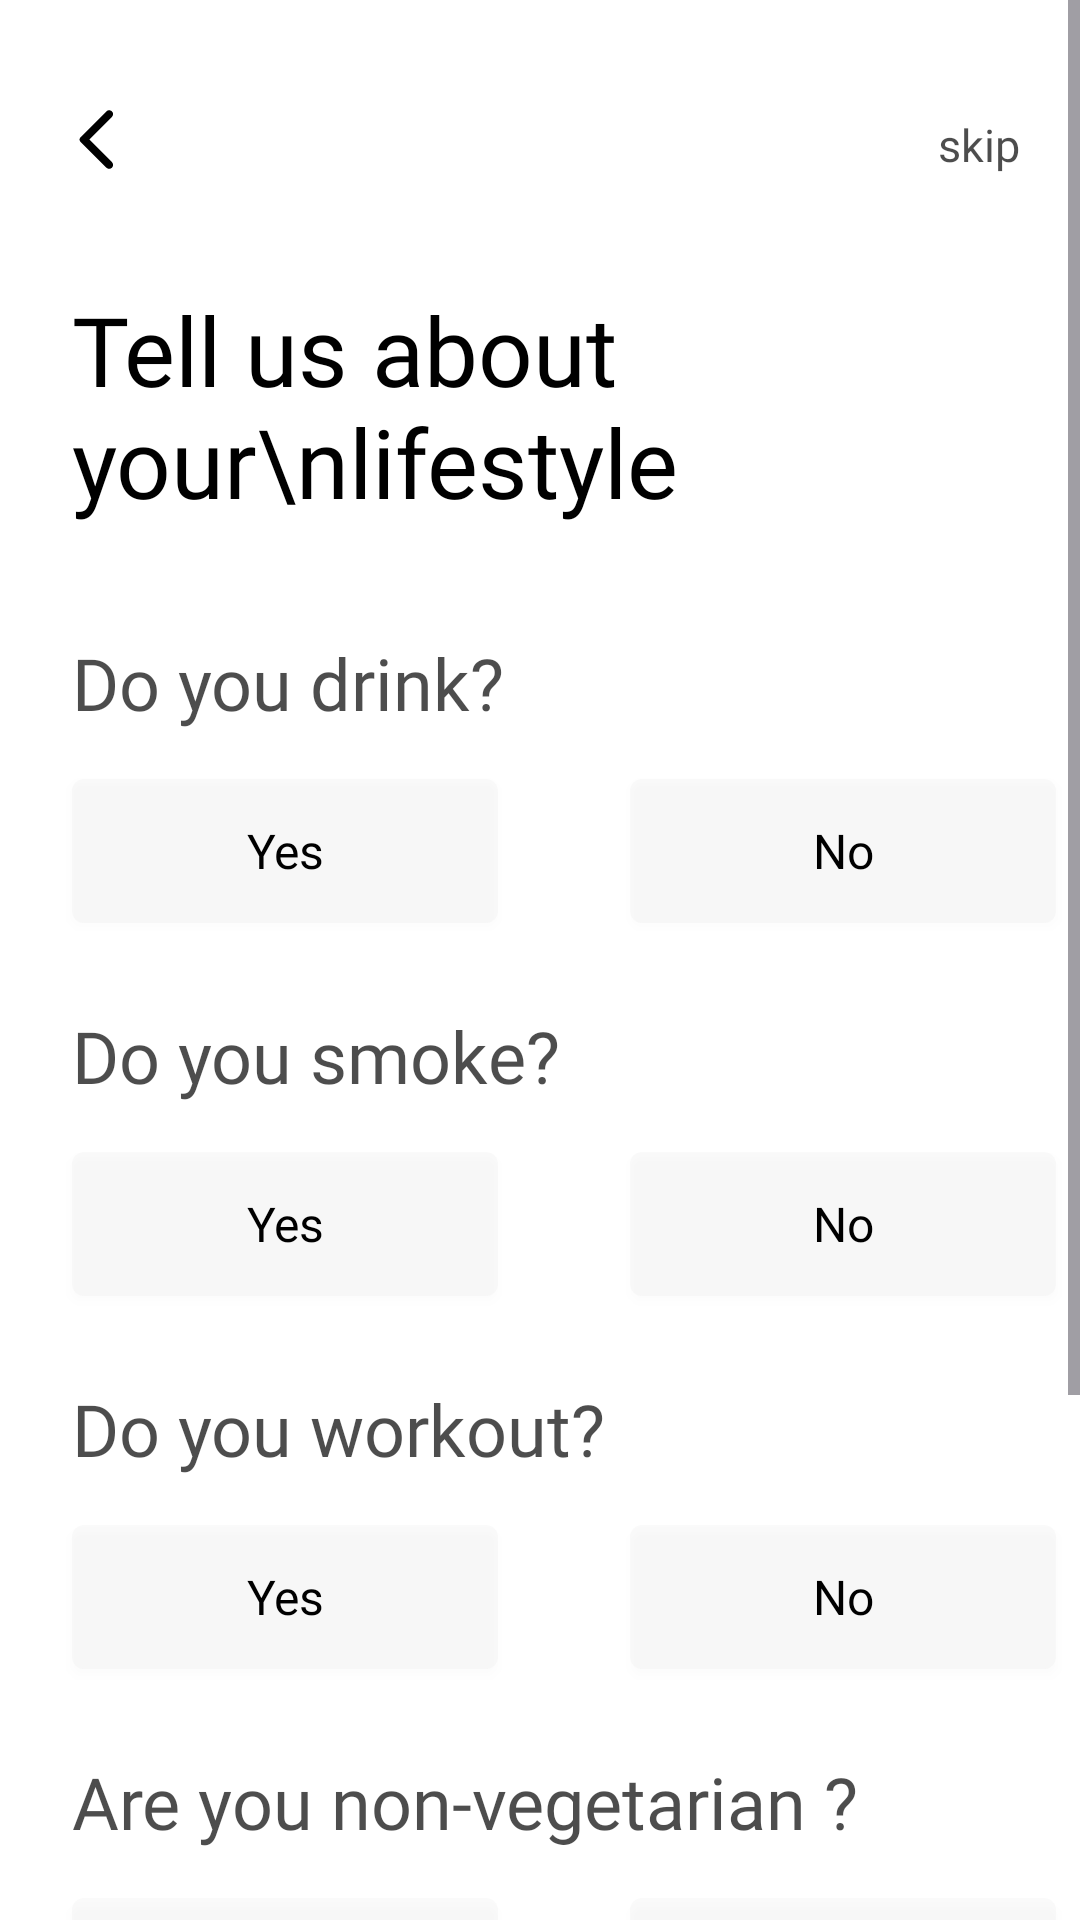

Icons on this 1080*1920 Android screen, each with the point to tap as (x=x, y=y):
arrow back: (x=96, y=139)
